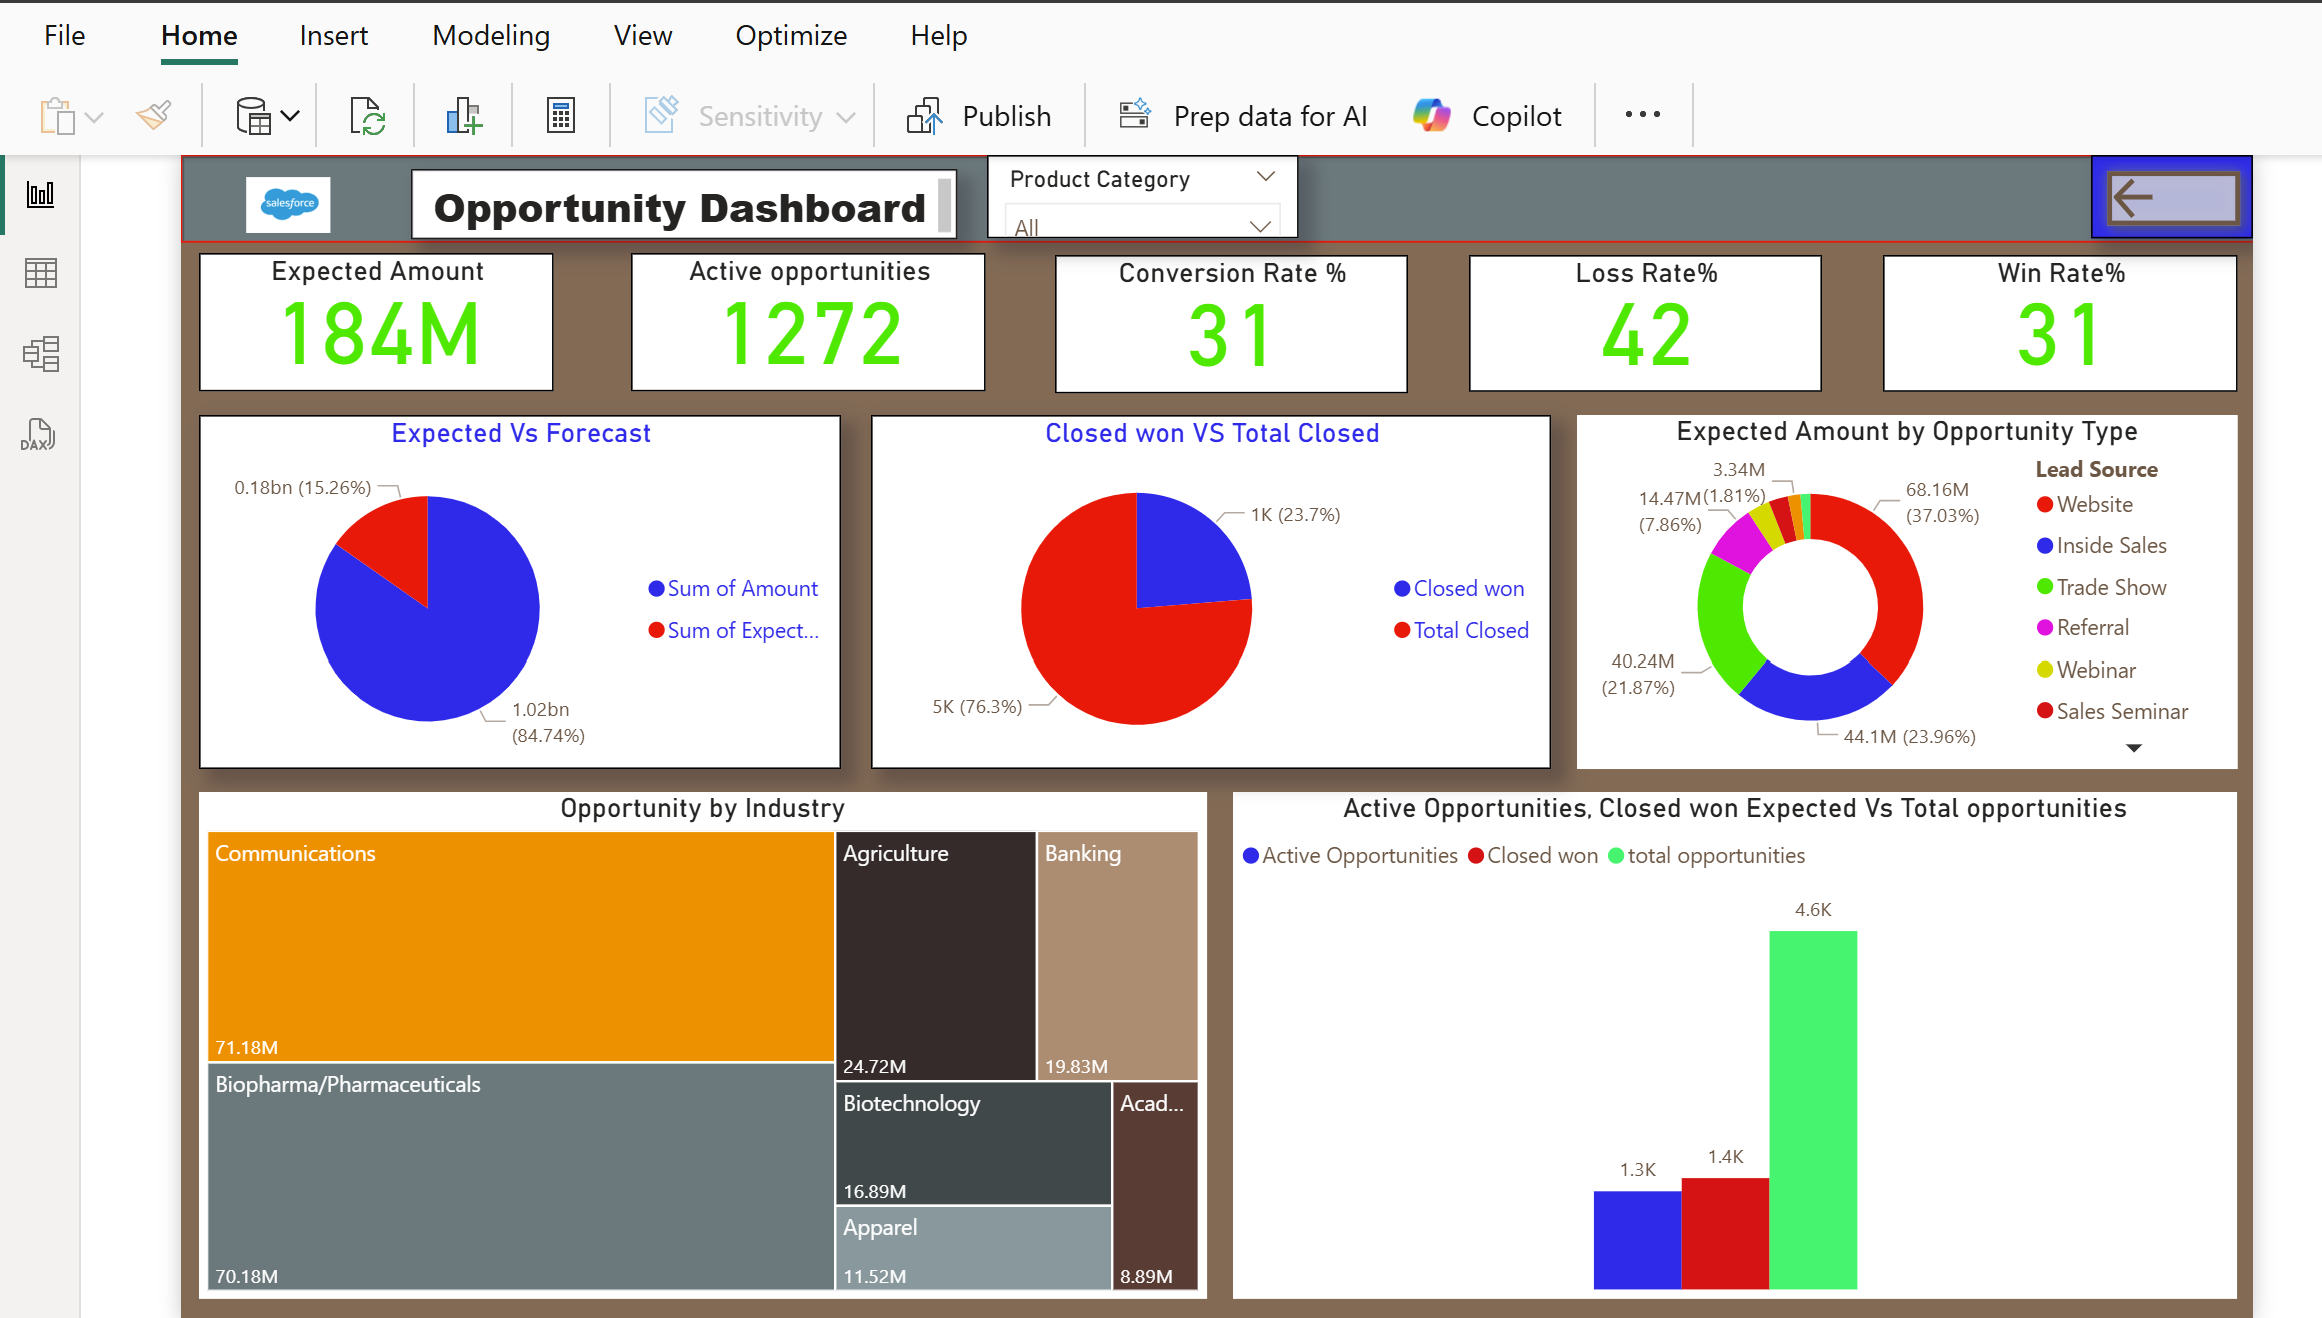

What the dashboard file says about the page in this screenshot:
{"tool":"tableau","page":{"name":"Opportunity Dashboard","canvas":[1600,900],"ordinal":1},"visuals":[{"type":"text","box":[9,6,1581,79]},{"type":"image","box":[34,8,199,78]},{"type":"dashboard-object","box":[1323,24,251,52]},{"type":"worksheet","title":"Active Opportunities","mark":"Text","box":[324,95,286,158]},{"type":"worksheet","title":"Conversion Rate","mark":"Text","box":[639,95,286,158]},{"type":"worksheet","title":"Expected Amount","mark":"Text","box":[9,96,294,155]},{"type":"worksheet","title":"Win Rate %","mark":"Text","box":[954,96,303,155]},{"type":"worksheet","title":"Loss Rate %","mark":"Text","box":[1288,100,303,151]},{"type":"worksheet","title":"Closed Won Vs Total Closed","mark":"Automatic","box":[1119,266,474,296]},{"type":"filter","title":"Closed Won Vs Total Closed","param":"[federated.1us913x0iaojib1exc1v11rsi8q6].[tyr:Close Date:qk]","box":[1431,266,160,67]},{"type":"worksheet","title":"Expected Vs Forecast","mark":"Automatic","rows":["Amount","Expected Amount"],"cols":["Close Date"],"box":[10,267,533,300]},{"type":"worksheet","title":"Active Vs Total Opportunities","mark":"Bar","box":[565,267,533,298]},{"type":"filter","title":"Active Vs Total Opportunities","param":"[federated.1us913x0iaojib1exc1v11rsi8q6].[tyr:Close Date:qk]","box":[902,267,196,51]},{"type":"filter","title":"Expected Vs Forecast","param":"[federated.1us913x0iaojib1exc1v11rsi8q6].[tyr:Close Date:qk]","box":[259,270,160,68]},{"type":"worksheet","title":"Expected Amount by Opportunity Type","mark":"Pie","box":[566,585,536,296]},{"type":"worksheet","title":"Opportunities by Industry","mark":"Automatic","box":[1119,585,474,297]},{"type":"worksheet","title":"Closed Won Vs Total Opportunities","mark":"Automatic","box":[11,587,532,295]}]}

Visuals, with their boxes on the page's 1600x900 design canvas (x1, y1, x2, y2). These are canvas units, not pixel positions in the 2322x1318 screenshot, which may show the page scaled, cropped or inside an application window:
text: region(9, 6, 1590, 85)
image: region(34, 8, 233, 86)
dashboard-object: region(1323, 24, 1574, 76)
"Active Opportunities" worksheet (Text marks): region(324, 95, 610, 253)
"Conversion Rate" worksheet (Text marks): region(639, 95, 925, 253)
"Expected Amount" worksheet (Text marks): region(9, 96, 303, 251)
"Win Rate %" worksheet (Text marks): region(954, 96, 1257, 251)
"Loss Rate %" worksheet (Text marks): region(1288, 100, 1591, 251)
"Closed Won Vs Total Closed" worksheet: region(1119, 266, 1593, 562)
"Closed Won Vs Total Closed" filter: region(1431, 266, 1591, 333)
"Expected Vs Forecast" worksheet: region(10, 267, 543, 567)
"Active Vs Total Opportunities" worksheet (Bar marks): region(565, 267, 1098, 565)
"Active Vs Total Opportunities" filter: region(902, 267, 1098, 318)
"Expected Vs Forecast" filter: region(259, 270, 419, 338)
"Expected Amount by Opportunity Type" worksheet (Pie marks): region(566, 585, 1102, 881)
"Opportunities by Industry" worksheet: region(1119, 585, 1593, 882)
"Closed Won Vs Total Opportunities" worksheet: region(11, 587, 543, 882)
